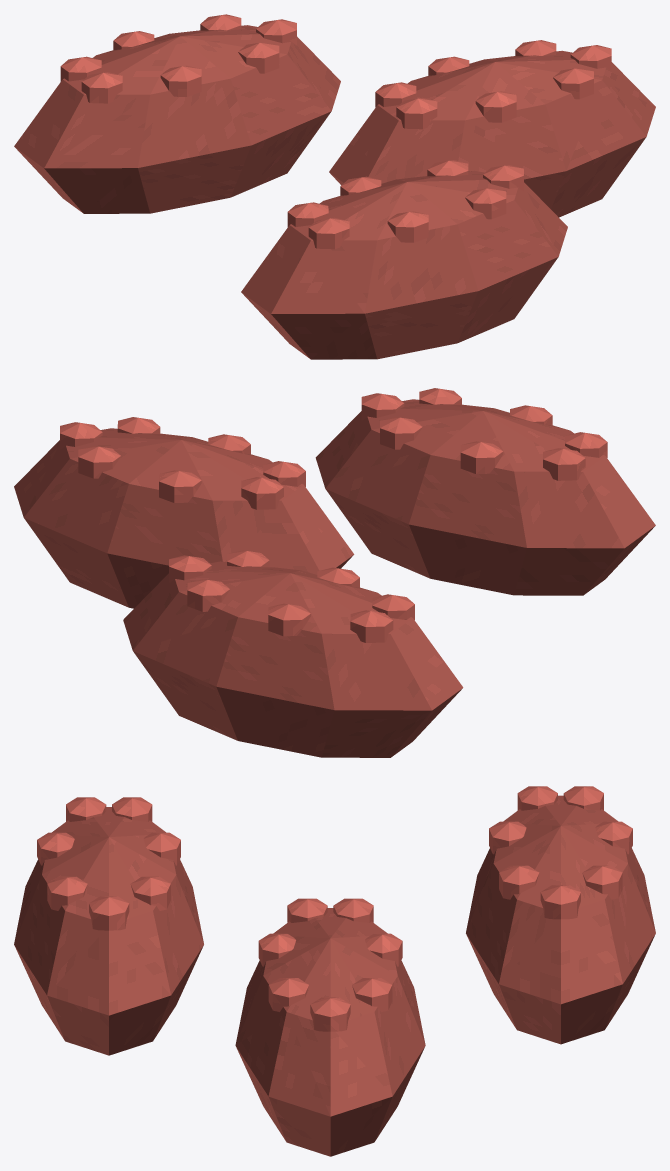
File: cholla_bud.glb
3 renders of one model, top to bottom at view 1: azimuth 30°, elevation 25°; view 2: azimuth 150°, elevation 25°; view 3: azimuth 270°, elevation 25°, orthographic. The views are drawn at different scales.
Visible parts, largest first — view 1: block_seed pod (×3), block_blunt cactus bud scale (×21); view 2: block_seed pod (×3), block_blunt cactus bud scale (×21); view 3: block_seed pod (×3), block_blunt cactus bud scale (×21).
Part boxes in pixels (left/top/right/bottom): block_seed pod (×3): left=14, top=25, right=655, bottom=359; block_blunt cactus bud scale (×21): left=60, top=14, right=611, bottom=249; block_seed pod (×3): left=14, top=399, right=655, bottom=757; block_blunt cactus bud scale (×21): left=60, top=388, right=607, bottom=642; block_seed pod (×3): left=14, top=795, right=655, bottom=1156; block_blunt cactus bud scale (×21): left=37, top=786, right=632, bottom=1031.
Size of the model in its own units: 0.1259 by 0.0388 by 0.1222.
1 material, 1 textured.
